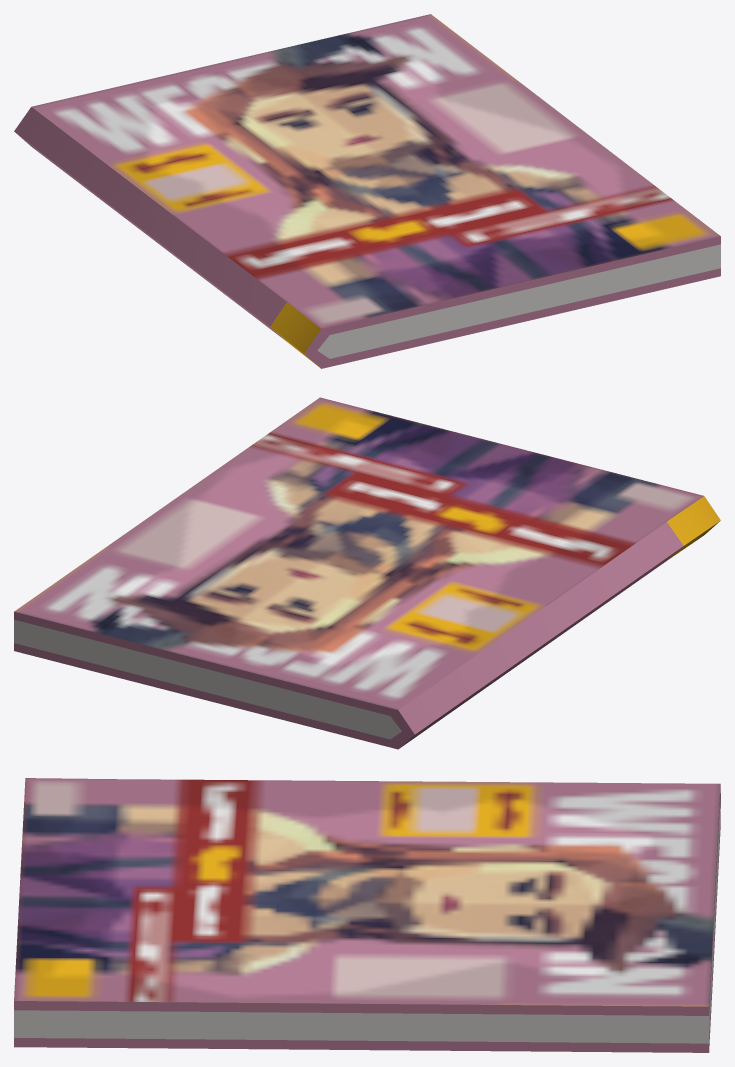
The model's file is SM_Prop_Book_Magazine_02.fbx.
The picture shows the model from 3 angles, top to bottom: view 1: azimuth 30°, elevation 25°; view 2: azimuth 150°, elevation 25°; view 3: azimuth 270°, elevation 25°; orthographic projection. The views are drawn at different scales.
Visible parts, largest first — view 1: SM_Prop_Book_Magazine_02; view 2: SM_Prop_Book_Magazine_02; view 3: SM_Prop_Book_Magazine_02.
Boxes of the visible parts, x1,y1,x2,y2 form: SM_Prop_Book_Magazine_02: [14, 14, 720, 368]; SM_Prop_Book_Magazine_02: [14, 397, 720, 749]; SM_Prop_Book_Magazine_02: [14, 778, 720, 1052].
Bounding box in the file's own units: 30.84 × 2.79 × 38.66.
